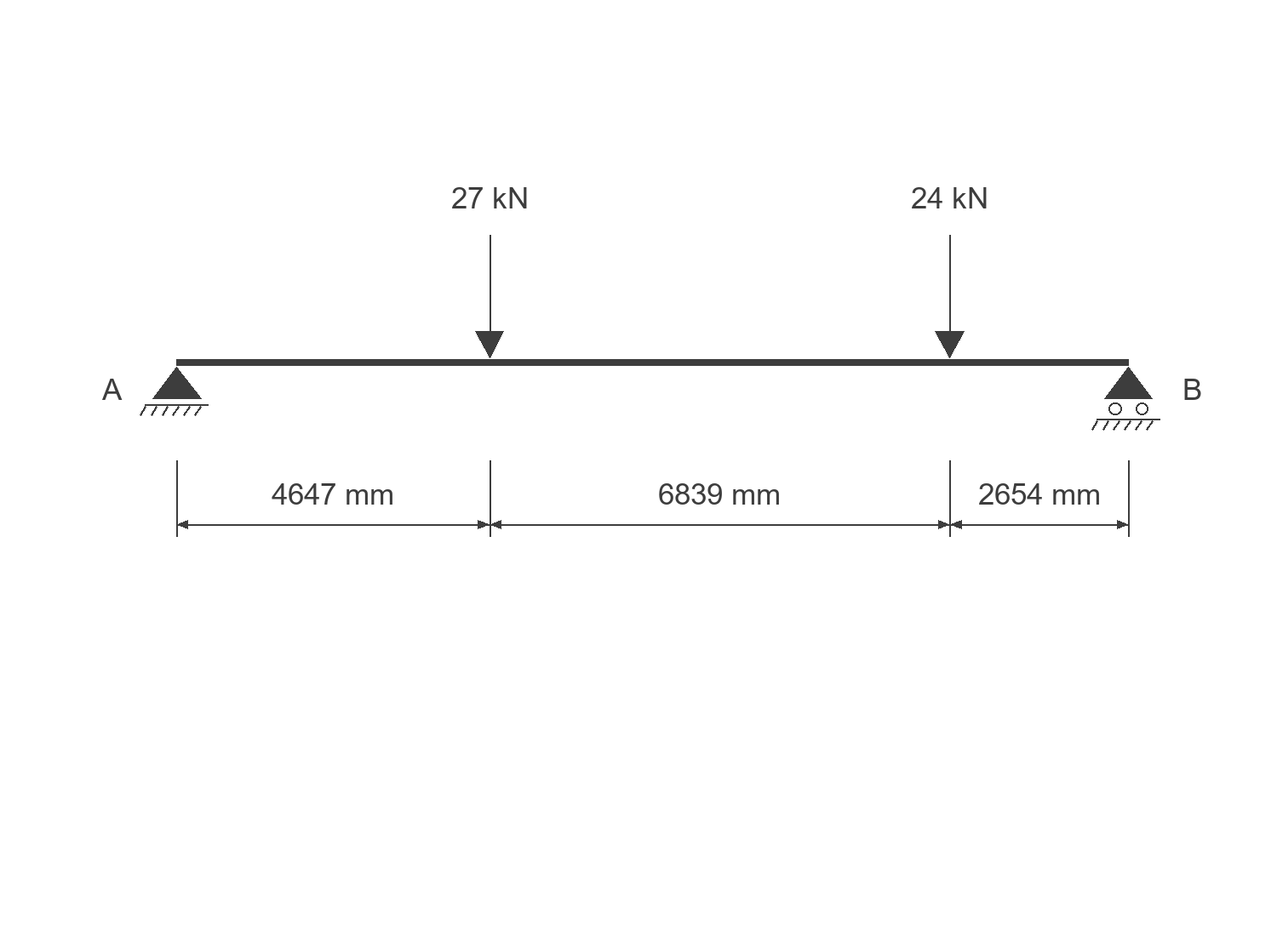pin_support: (140, 367, 209, 416)
point_load: (935, 235, 965, 358), (475, 235, 504, 358)
roller_support: (1091, 367, 1160, 431)
